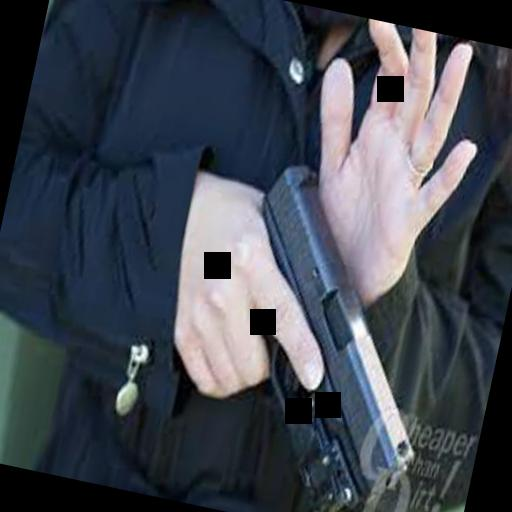Handgun: (178, 146, 466, 512)
